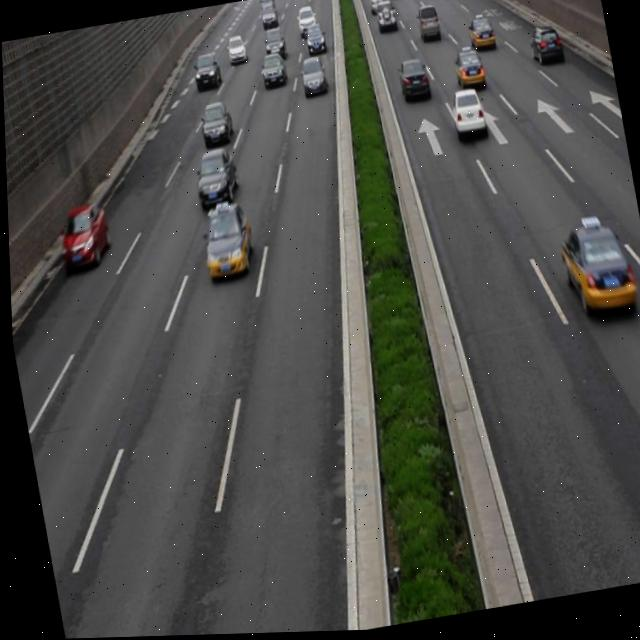car: (555, 214, 634, 326), (198, 203, 254, 282), (56, 204, 111, 266), (188, 148, 238, 211), (448, 90, 486, 141), (195, 101, 233, 148), (525, 25, 561, 73), (450, 48, 485, 96), (395, 60, 429, 102), (296, 57, 328, 101), (257, 53, 289, 94), (465, 14, 496, 56), (191, 50, 222, 92)
